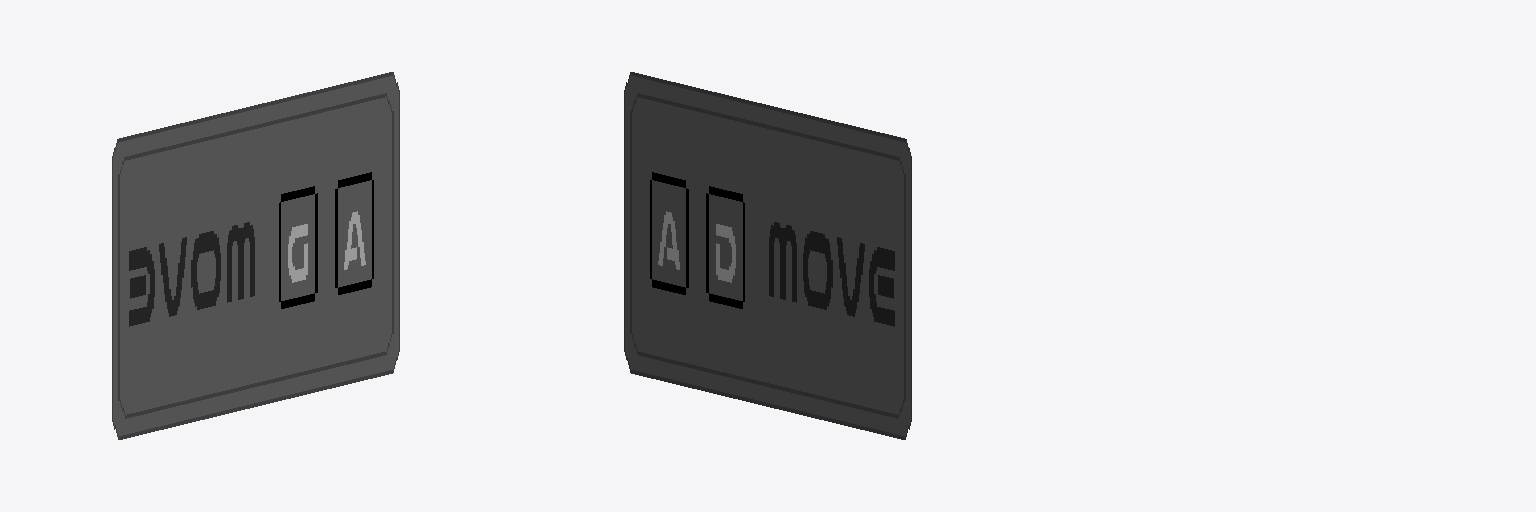
3 views of the same model, side by side, from view 1: azimuth 30°, elevation 25°; view 2: azimuth 150°, elevation 25°; view 3: azimuth 270°, elevation 25° (orthographic).
Visible parts, largest first — view 1: 平面; view 2: 平面; view 3: none.
Part boxes in pixels (x1,y1,x2,y2): 平面: (112,72,399,439); 平面: (624,72,911,439).
Size of the model in its own units: 2 by 2 by 0.
Materials: 1 (1 with a texture image).